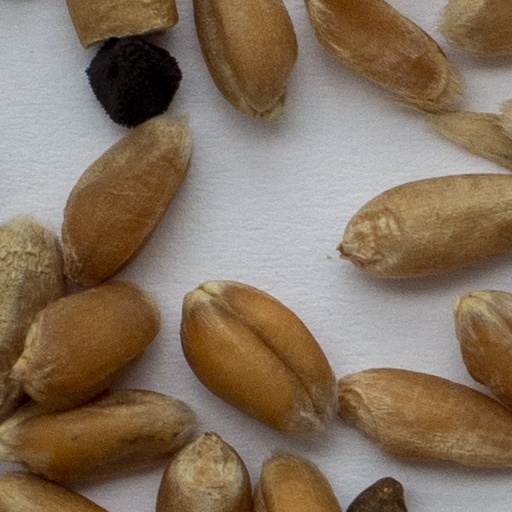Agrostemma-poly: (82, 38, 186, 130)
Wheat-grain-damaged-poly: (67, 0, 178, 47)
